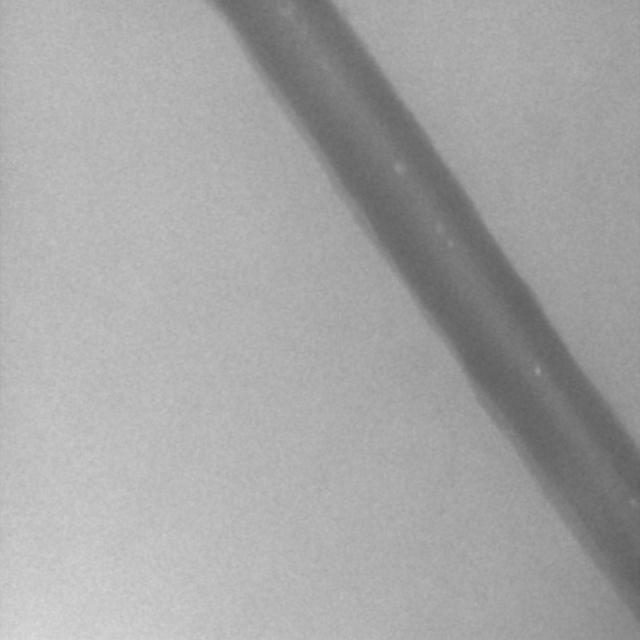air hole: (392, 159, 407, 176), (533, 364, 542, 377)
